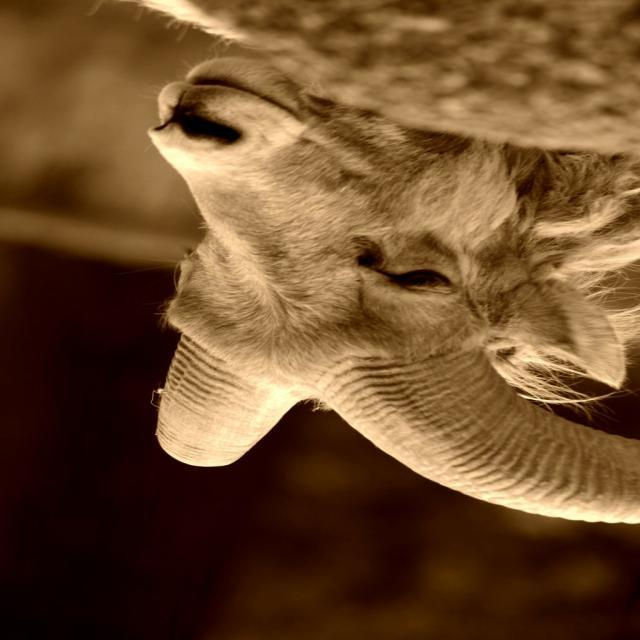Goat: (137, 50, 640, 526)
